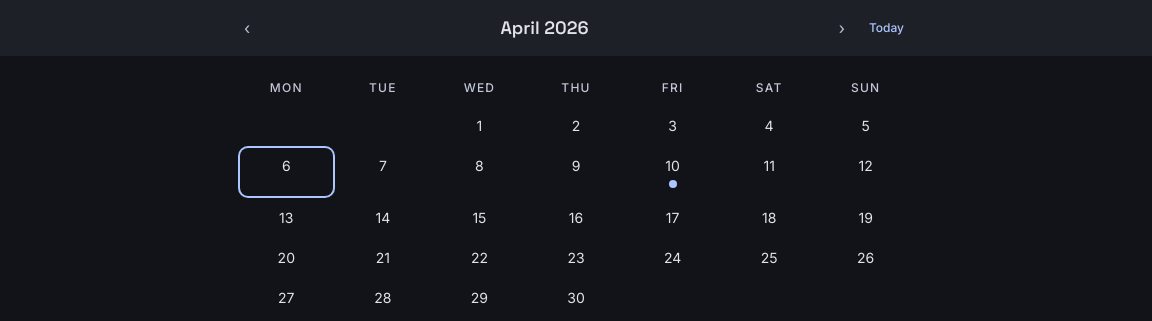
RemindersView › passes reminder data to day detail for selected day
Expected: the element with test id "reminder-dot" is shown, [669,180,677,188]
Click the button with test id "day-cell-2026-04-10".
click(673, 172)  # box [626,148,719,196]
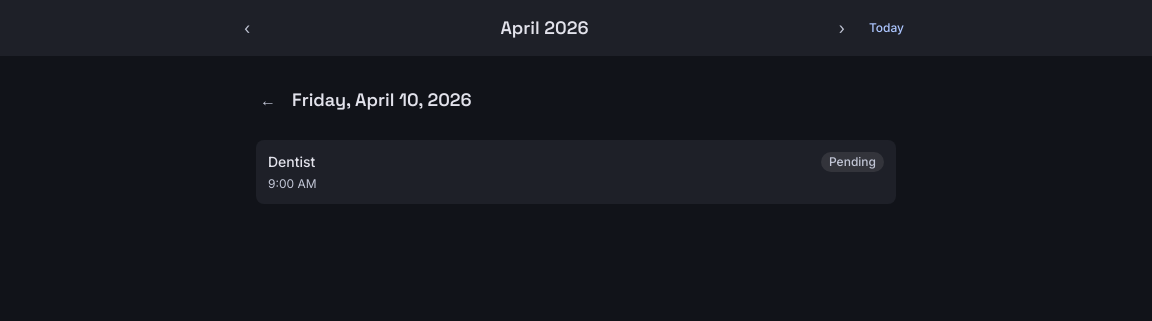
Result: the text "Dentist" is shown at [268,152,316,172]
